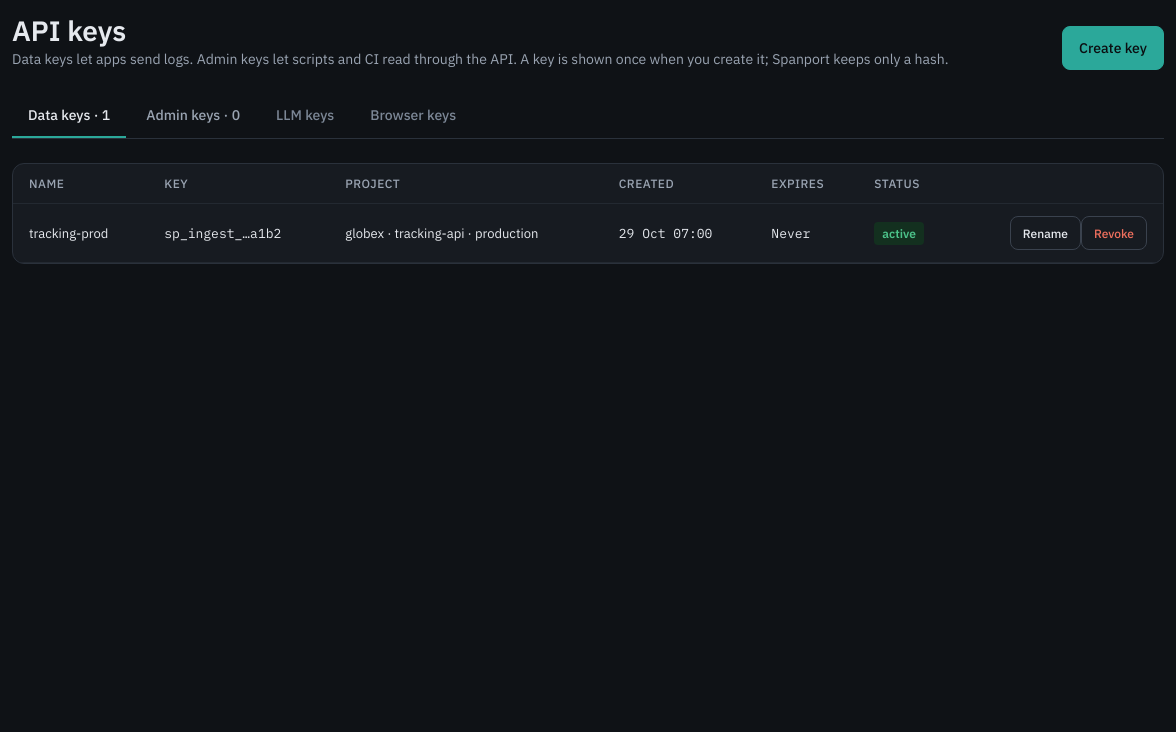
it: API keys › asks for a project before creating a data key
Step 1. Click the button "Create key" → (1113, 48), box [1062,26,1164,70]
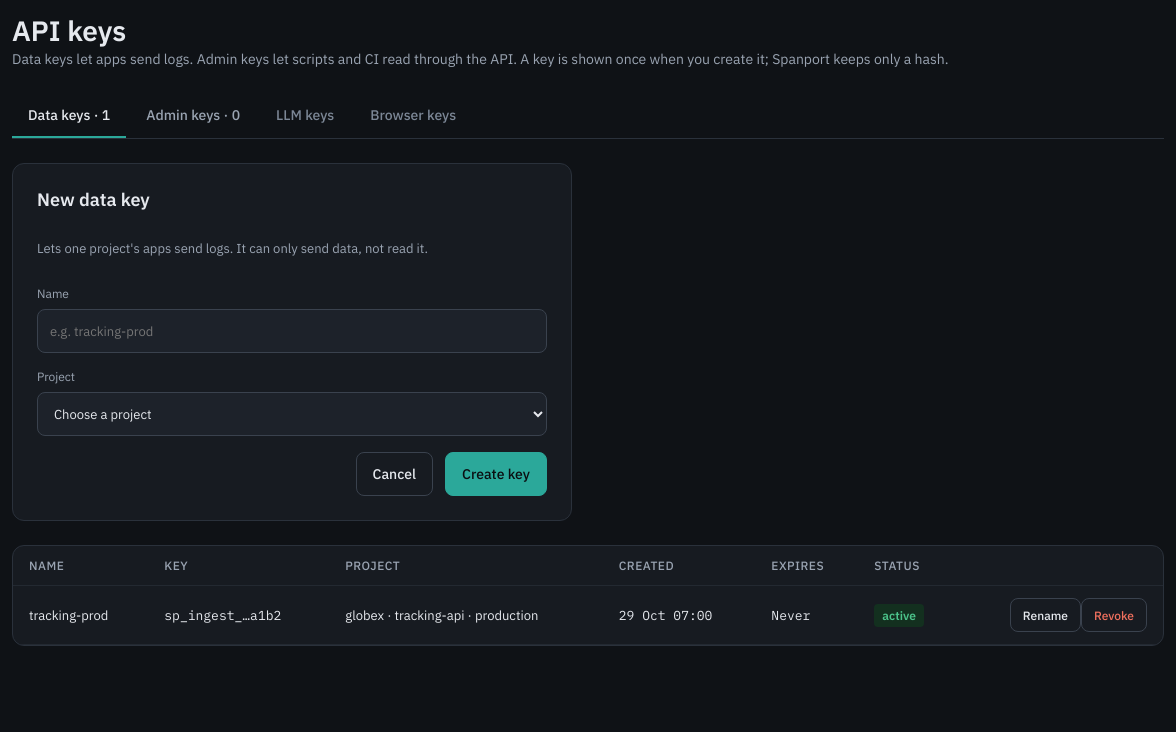
Step 2. Type "x" into the field labelled "Name" → (292, 331), box [37,309,547,353]
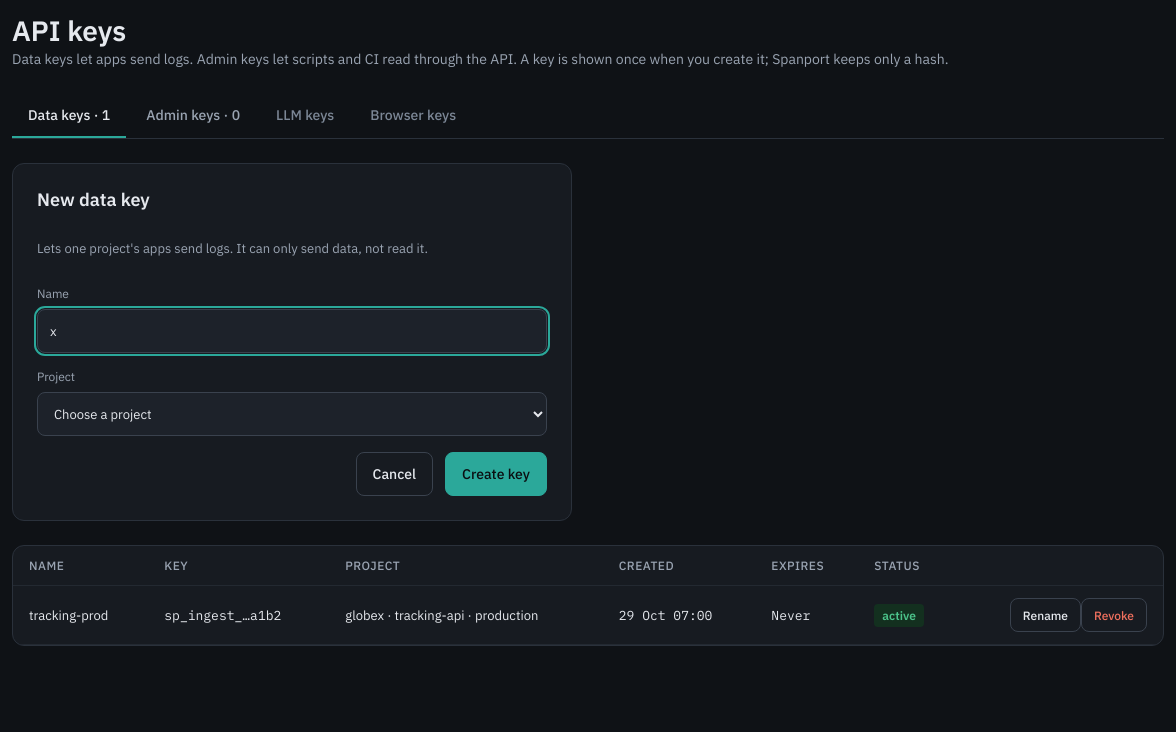
Step 3. Click the button "Create key" → (496, 474), box [445,452,547,496]
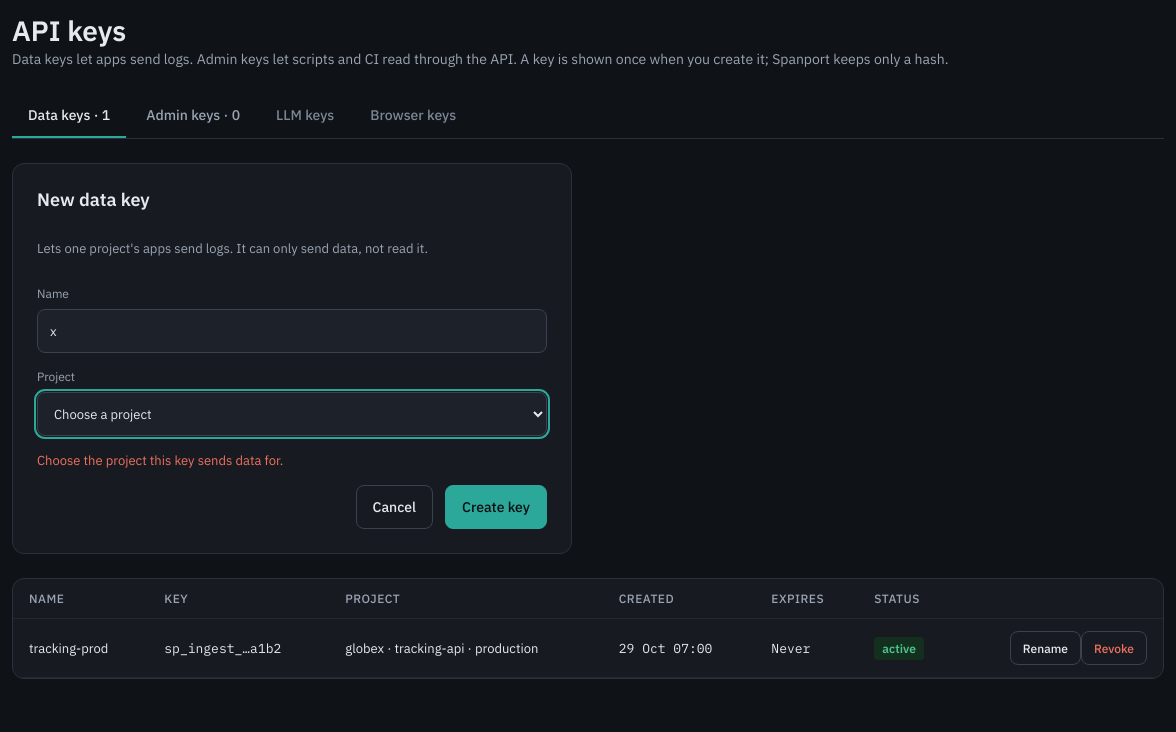
Expected: the message shows "Choose the project", [37,452,283,469]
